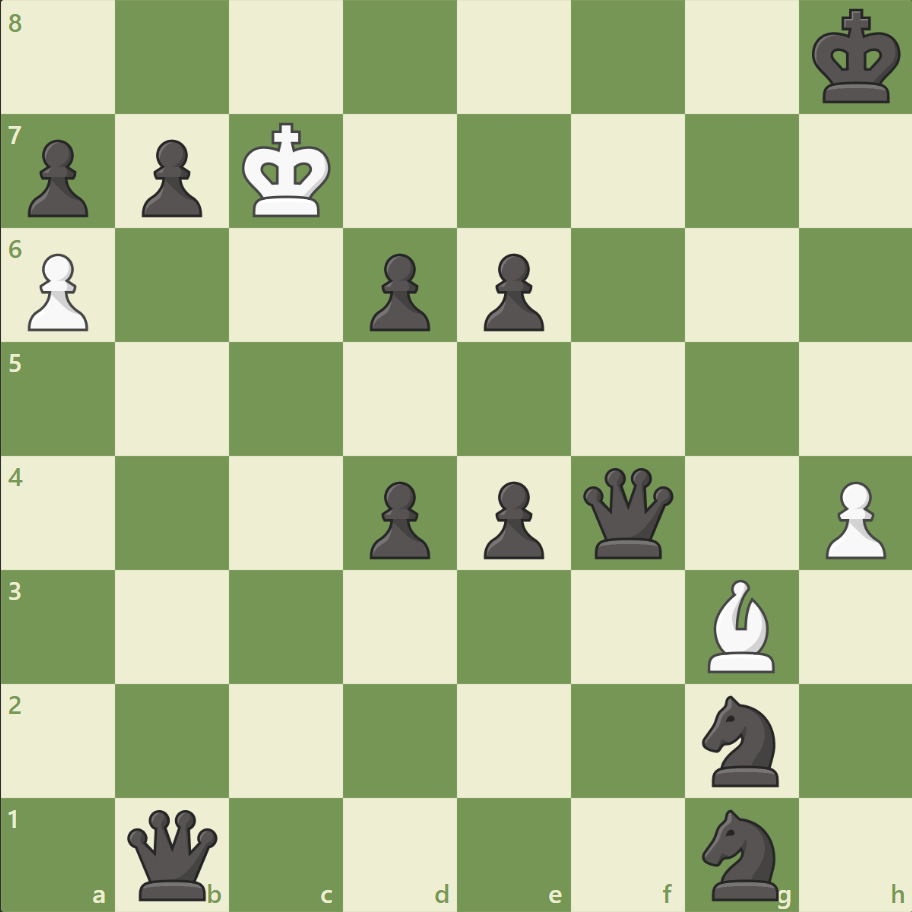B: (698, 574, 782, 676)
K: (238, 117, 338, 225)
P: (20, 246, 95, 337), (815, 473, 889, 564)
k: (806, 4, 906, 112)
n: (692, 688, 789, 791), (692, 802, 789, 904)
p: (20, 132, 95, 223), (133, 132, 208, 223), (474, 246, 549, 337), (474, 473, 549, 564), (361, 246, 435, 337), (361, 473, 435, 564)
q: (578, 463, 677, 562), (124, 804, 223, 903)
